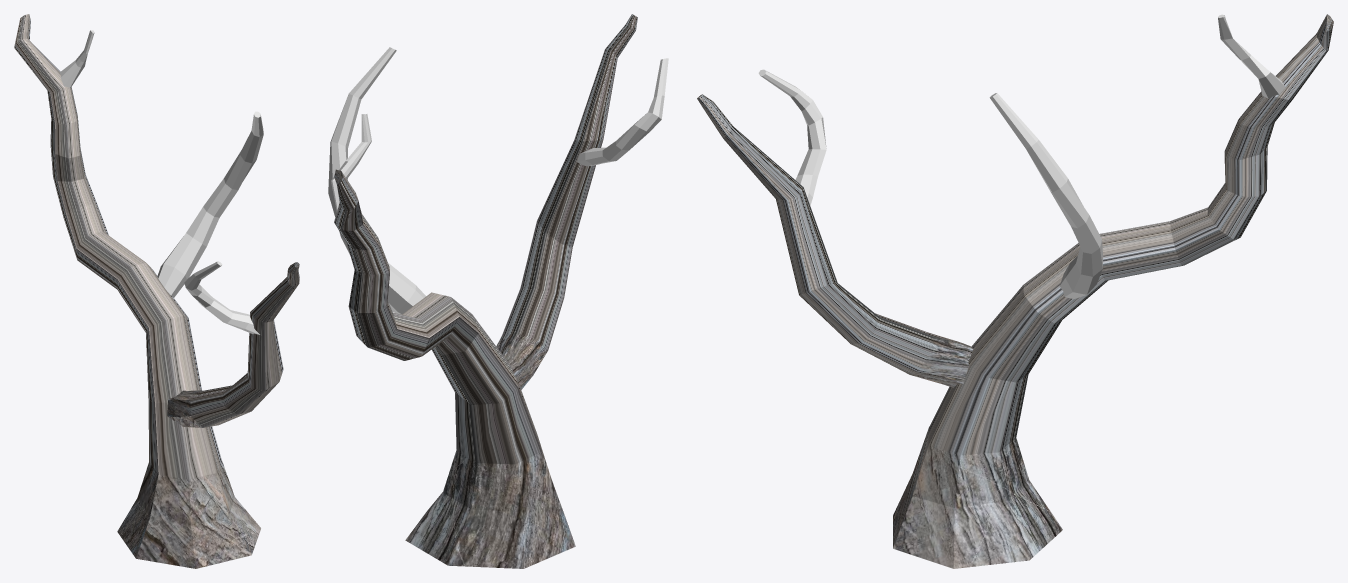
Rendered from Tree2.fbx.
The picture shows the model from 3 angles, left to right: view 1: azimuth 30°, elevation 25°; view 2: azimuth 150°, elevation 25°; view 3: azimuth 270°, elevation 25°; orthographic projection. The views are drawn at different scales.
Visible parts, largest first — view 1: Cylinder.028, Cylinder.025, Cylinder.009, Cylinder.008, Cylinder.010; view 2: Cylinder.028, Cylinder.025, Cylinder.009, Cylinder.008, Cylinder.010; view 3: Cylinder.028, Cylinder.025, Cylinder.009, Cylinder.008, Cylinder.010.
Part boxes in pixels (x1=…): Cylinder.028: x1=14, y1=14, x2=260, y2=568; Cylinder.025: x1=167, y1=262, x2=299, y2=427; Cylinder.009: x1=157, y1=111, x2=263, y2=297; Cylinder.008: x1=184, y1=261, x2=259, y2=334; Cylinder.010: x1=59, y1=30, x2=94, y2=87; Cylinder.028: x1=334, y1=169, x2=575, y2=568; Cylinder.025: x1=496, y1=14, x2=637, y2=390; Cylinder.009: x1=328, y1=47, x2=426, y2=314; Cylinder.008: x1=577, y1=58, x2=668, y2=166; Cylinder.010: x1=331, y1=114, x2=371, y2=211; Cylinder.028: x1=893, y1=14, x2=1333, y2=568; Cylinder.025: x1=697, y1=94, x2=973, y2=387; Cylinder.009: x1=989, y1=93, x2=1103, y2=298; Cylinder.008: x1=758, y1=69, x2=826, y2=205; Cylinder.010: x1=1218, y1=14, x2=1285, y2=98.
Bounding box in the file's own units: 313 × 738 × 820.
